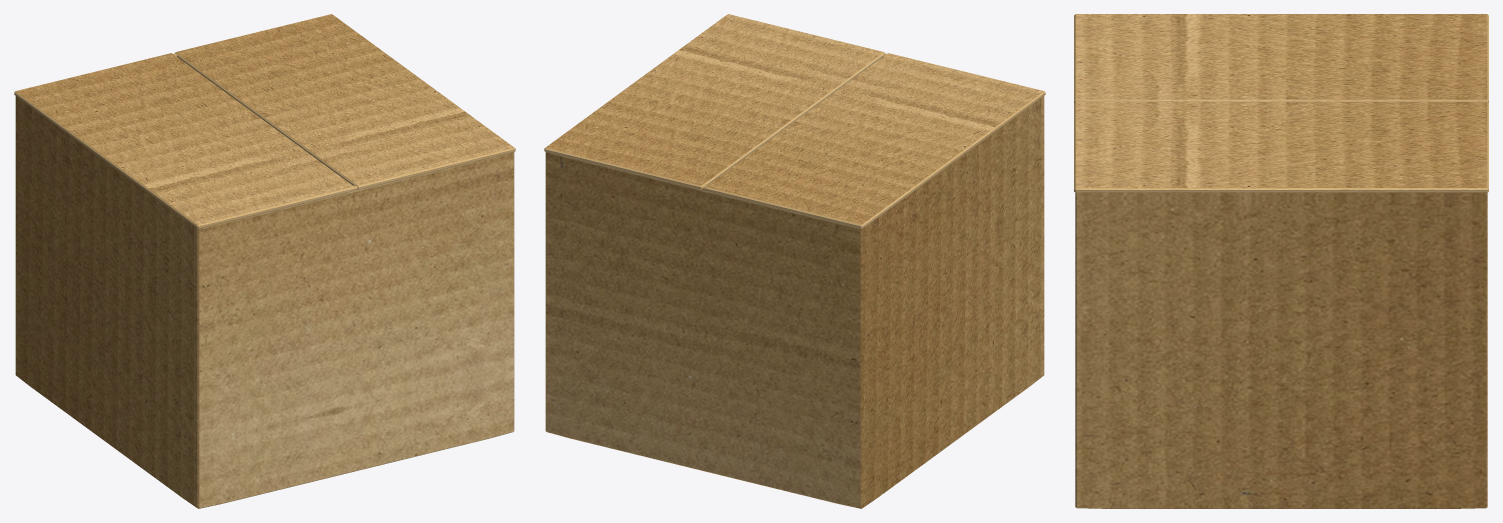
The model's file is boxy.fbx.
3 views of the same model, side by side, from view 1: azimuth 30°, elevation 25°; view 2: azimuth 150°, elevation 25°; view 3: azimuth 270°, elevation 25° (orthographic). The views are drawn at different scales.
Visible parts, largest first — view 1: Box, TopLid1, TopLid2, BotLid2; view 2: Box, TopLid1, TopLid2, BotLid1; view 3: Box, TopLid2, TopLid1.
Part boxes in pixels (<box>): Box: <box>15,53,514,508</box>; TopLid1: <box>14,53,355,229</box>; TopLid2: <box>174,14,515,189</box>; BotLid2: <box>203,153,509,228</box>; Box: <box>545,53,1044,508</box>; TopLid1: <box>704,53,1045,229</box>; TopLid2: <box>544,14,885,189</box>; BotLid1: <box>549,153,856,228</box>; Box: <box>1075,101,1487,508</box>; TopLid2: <box>1074,102,1488,192</box>; TopLid1: <box>1074,14,1488,102</box>.
Bounding box in the file's own units: 1.13 × 0.9649 × 1.13.
Materials: 1 (1 with a texture image).
